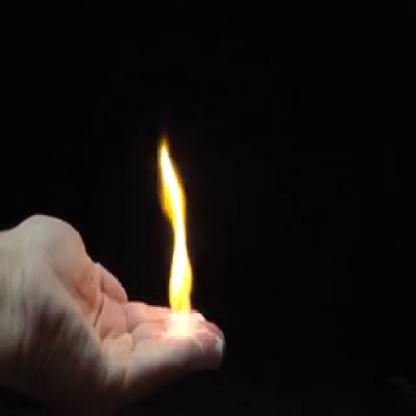fire: (155, 128, 200, 343)
